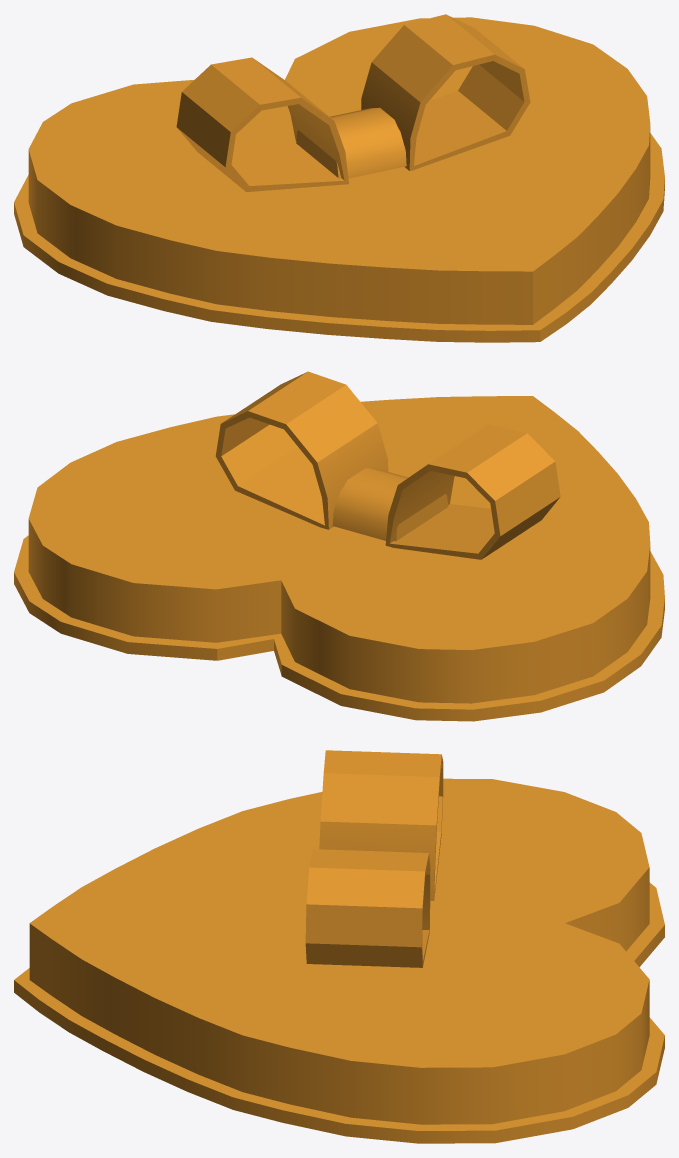
File: Bomboniera_cala.fbx
3 views of the same model, one above another, from view 1: azimuth 30°, elevation 25°; view 2: azimuth 150°, elevation 25°; view 3: azimuth 270°, elevation 25° (orthographic). The views are drawn at different scales.
Parts seen in each view (by area): view 1: bomboniera_LOD0; view 2: bomboniera_LOD0; view 3: bomboniera_LOD0.
Boxes of the visible parts, x1,y1,x2,y2 form: bomboniera_LOD0: (14, 14, 664, 342); bomboniera_LOD0: (14, 371, 664, 721); bomboniera_LOD0: (14, 750, 664, 1143).
Size of what is drawn, in the model's own units: 125 by 33.42 by 114.
